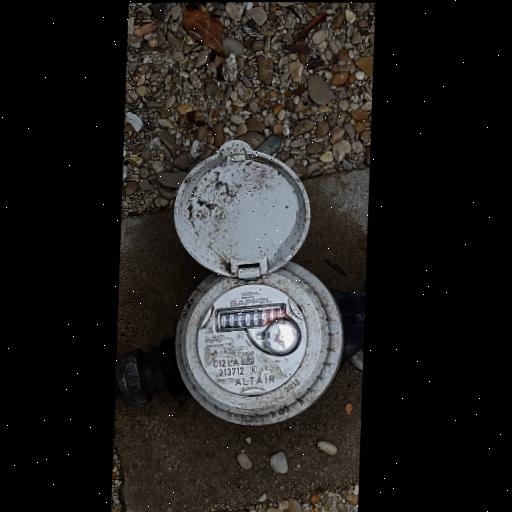0: (243, 312, 252, 328), (219, 314, 228, 329), (227, 312, 236, 327)
1: (267, 310, 277, 324)
2: (275, 308, 285, 320)
4: (235, 312, 244, 328)
6: (250, 311, 261, 326)
9: (259, 311, 268, 327)
border_water_meter_number: (212, 305, 287, 333)
